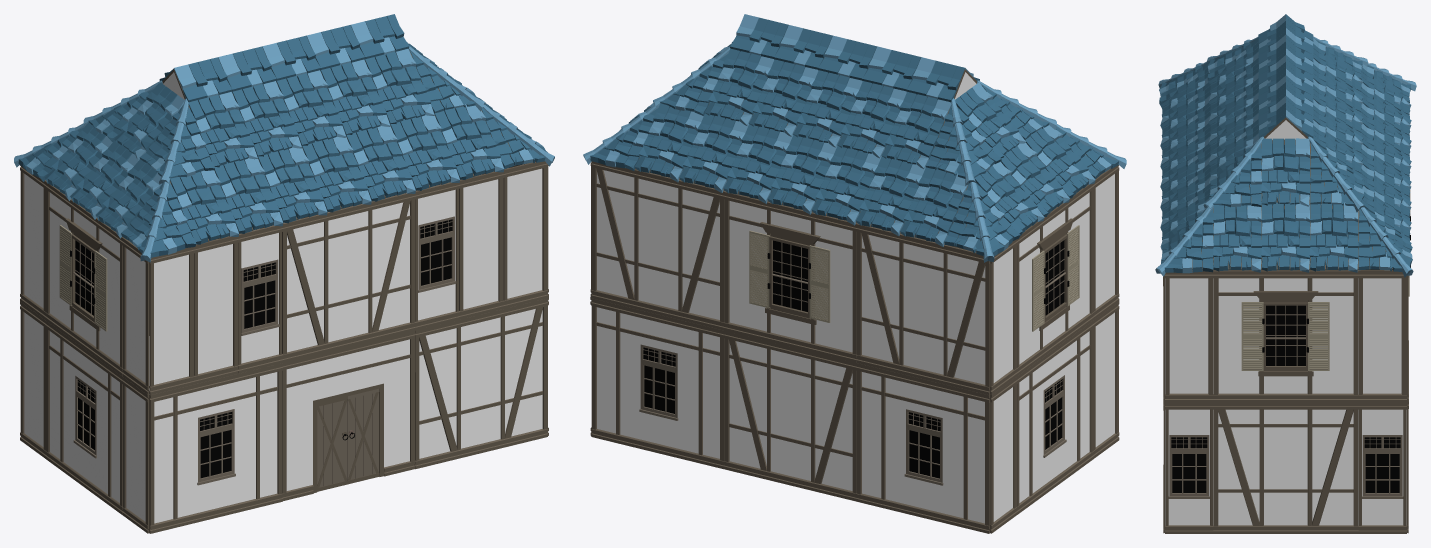
File: House_13_full.fbx
The picture shows the model from 3 angles, left to right: view 1: azimuth 30°, elevation 25°; view 2: azimuth 150°, elevation 25°; view 3: azimuth 270°, elevation 25°; orthographic projection. The views are drawn at different scales.
Visible parts, largest first — view 1: WALL_02_7, WINDOW_03_2, WALL_02_2, DOOR_03_2, WINDOW_07_5, WINDOW_03_3, WALL_03_12, WALL_03_11, WALL_03_10, WALL_03_9, WINDOW_04_6, WINDOW_04_5 (+31 smaller); view 2: WINDOW_03_5, WINDOW_07_4, WALL_02_5, WINDOW_03_4, WALL_02_4, WALL_02_6, WINDOW_07_5, WINDOW_03_3, WALL_03_4, WALL_03_5, WALL_03_6, WALL_03_3 (+27 smaller); view 3: WINDOW_07_3, WALL_02_3, WALL_03_8, WINDOW_04_3, WINDOW_04_4, WALL_03_7, ROOF_base_33, ROOF_base_34, ROOF_base_17, ROOF_base_16, ROOF_corner_out_5, ROOF_corner_out_9 (+42 smaller).
Part boxes in pixels (left/top/right/bottom): WALL_02_7: left=282, top=193, right=415, bottom=362; WINDOW_03_2: left=149, top=363, right=282, bottom=533; WALL_02_2: left=414, top=298, right=548, bottom=469; DOOR_03_2: left=282, top=330, right=415, bottom=500; WINDOW_07_5: left=45, top=181, right=123, bottom=375; WINDOW_03_3: left=45, top=320, right=123, bottom=514; WALL_03_12: left=149, top=247, right=194, bottom=394; WALL_03_11: left=194, top=236, right=238, bottom=384; WALL_03_10: left=459, top=171, right=503, bottom=319; WALL_03_9: left=503, top=161, right=548, bottom=308; WINDOW_04_6: left=415, top=181, right=459, bottom=330; WINDOW_04_5: left=238, top=225, right=282, bottom=373; WINDOW_03_5: left=591, top=298, right=724, bottom=469; WINDOW_07_4: left=724, top=191, right=857, bottom=362; WALL_02_5: left=856, top=223, right=989, bottom=394; WINDOW_03_4: left=856, top=363, right=989, bottom=533; WALL_02_4: left=724, top=330, right=856, bottom=501; WALL_02_6: left=591, top=161, right=724, bottom=330; WINDOW_07_5: left=1016, top=183, right=1093, bottom=375; WINDOW_03_3: left=1016, top=320, right=1093, bottom=514; WALL_03_4: left=990, top=376, right=1017, bottom=533; WALL_03_5: left=990, top=239, right=1017, bottom=394; WALL_03_6: left=1093, top=165, right=1119, bottom=319; WALL_03_3: left=1093, top=302, right=1119, bottom=458; WINDOW_07_3: left=1213, top=270, right=1358, bottom=402; WALL_02_3: left=1213, top=402, right=1358, bottom=533; WALL_03_8: left=1358, top=270, right=1406, bottom=402; WINDOW_04_3: left=1165, top=402, right=1213, bottom=533; WINDOW_04_4: left=1358, top=402, right=1406, bottom=533; WALL_03_7: left=1165, top=270, right=1213, bottom=402; ROOF_base_33: left=1261, top=202, right=1310, bottom=272; ROOF_base_34: left=1261, top=138, right=1310, bottom=206; ROOF_base_17: left=1309, top=202, right=1358, bottom=272; ROOF_base_16: left=1213, top=203, right=1261, bottom=272; ROOF_corner_out_5: left=1155, top=201, right=1215, bottom=276; ROOF_corner_out_9: left=1358, top=207, right=1413, bottom=277.
Bounding box in the file's own units: 941 × 859 × 541.
